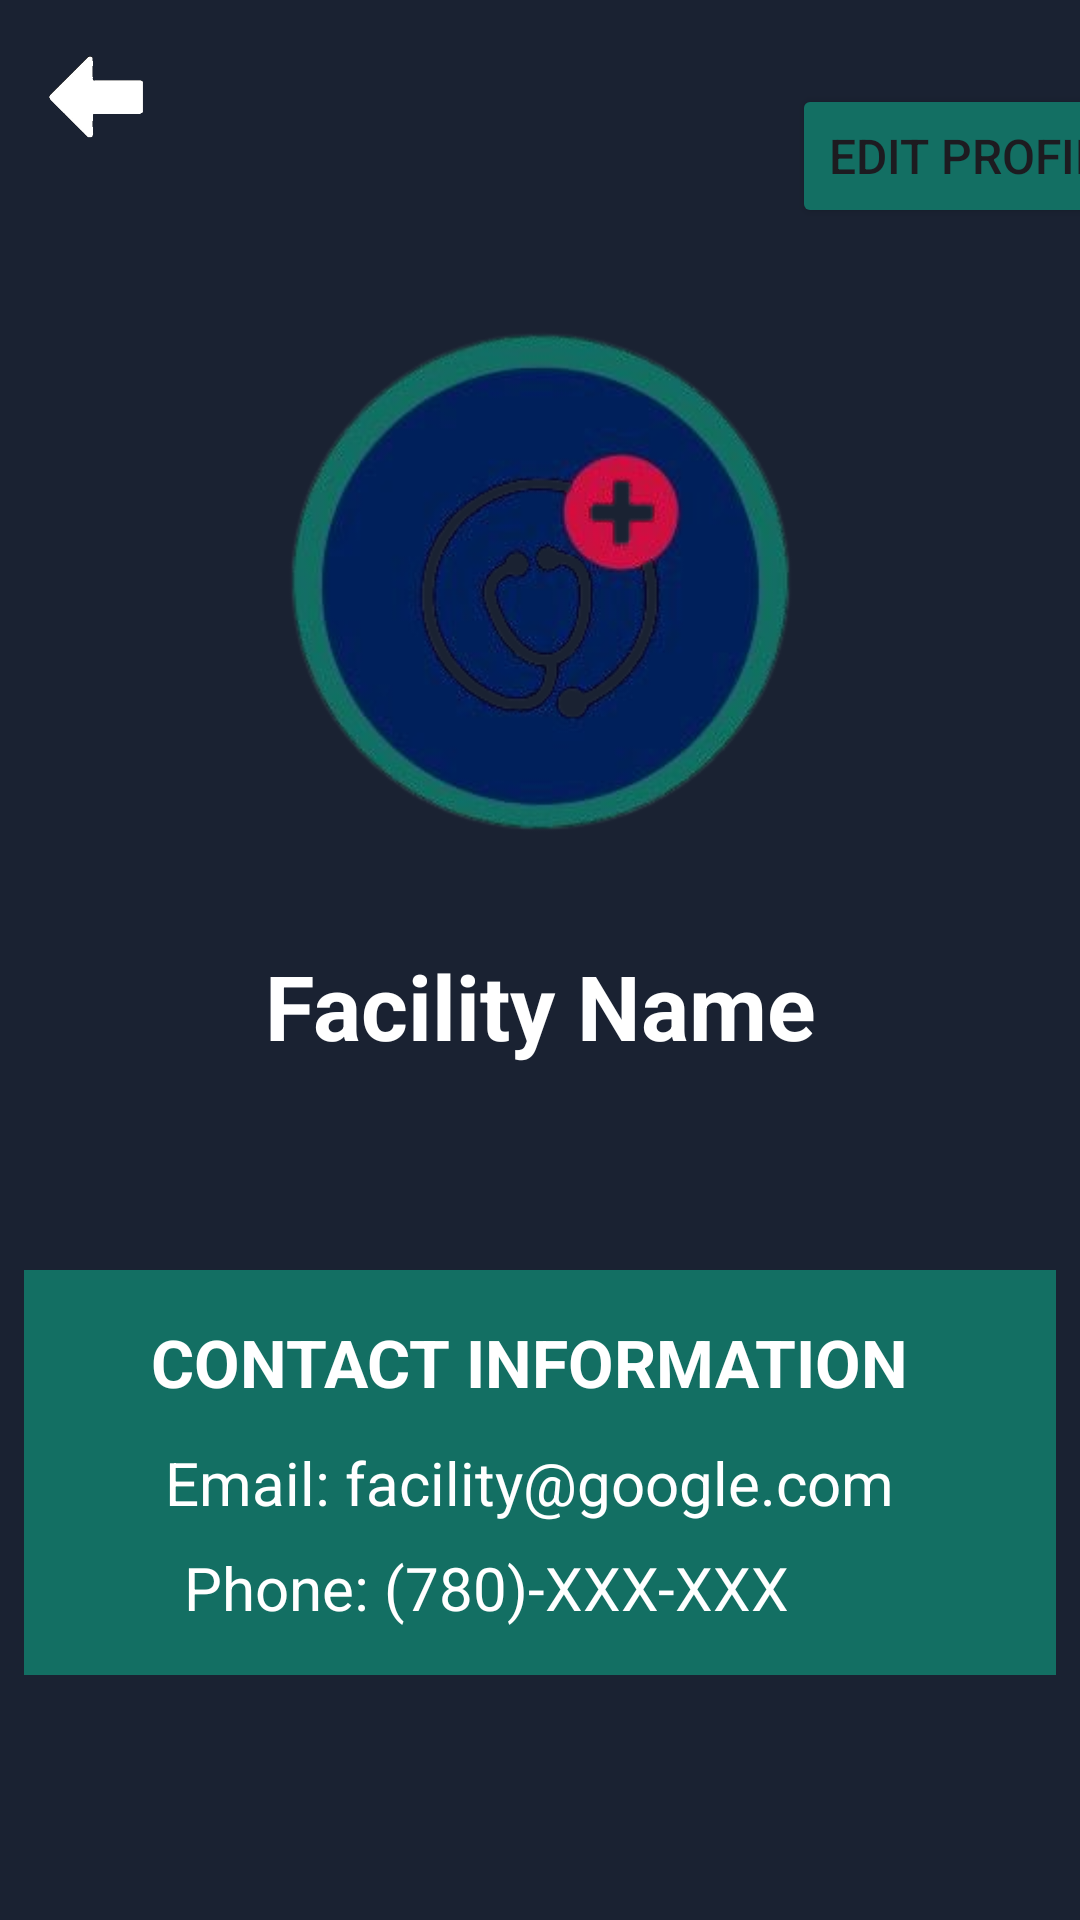

Point at icon controls on the screen. Image size 1080 x 1920, points as point (x, y).
Back Arrow: point (96, 97)
